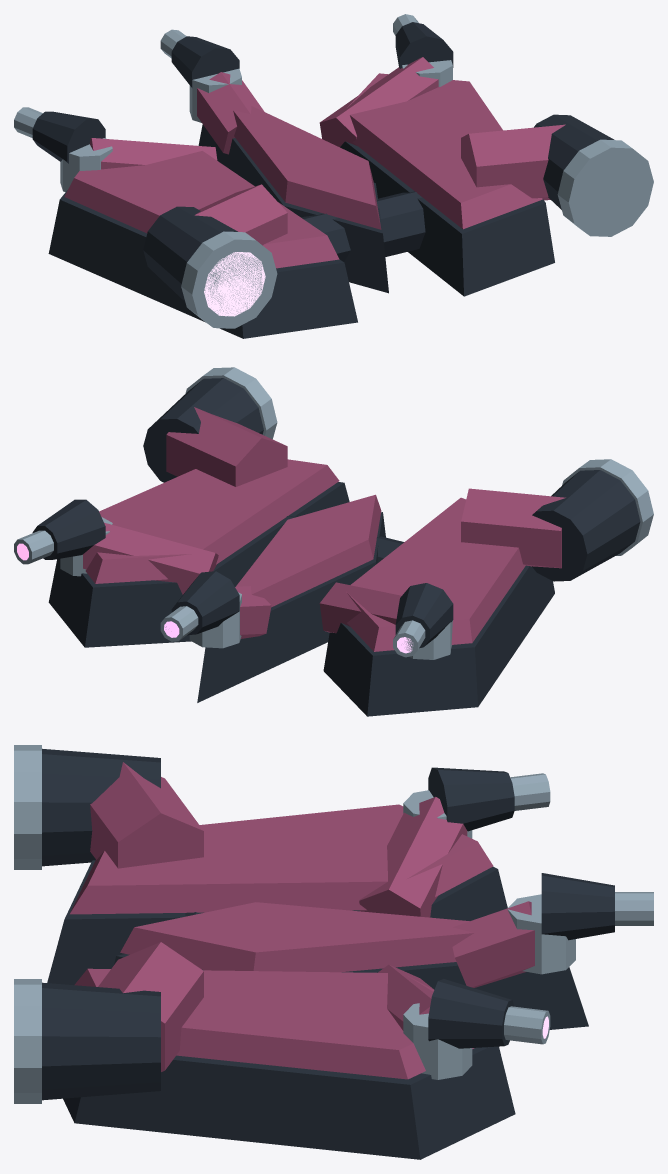
File: c2_compositeEnemy.glb
3 renders of one model, top to bottom at view 1: azimuth 30°, elevation 25°; view 2: azimuth 150°, elevation 25°; view 3: azimuth 270°, elevation 25°, orthographic. The views are drawn at different scales.
Visible parts, largest first — view 1: compositeEnemy / Armor, compositeEnemy / Chassis, compositeEnemy / Titanium, compositeEnemy / Energy; view 2: compositeEnemy / Armor, compositeEnemy / Chassis, compositeEnemy / Titanium, compositeEnemy / Energy; view 3: compositeEnemy / Armor, compositeEnemy / Chassis, compositeEnemy / Titanium.
Part boxes in pixels (left/top/right/bottom): compositeEnemy / Armor: left=64, top=57, right=565, bottom=268; compositeEnemy / Chassis: left=32, top=22, right=614, bottom=338; compositeEnemy / Titanium: left=14, top=14, right=653, bottom=328; compositeEnemy / Energy: left=204, top=252, right=265, bottom=316; compositeEnemy / Armor: left=83, top=407, right=565, bottom=651; compositeEnemy / Chassis: left=32, top=378, right=640, bottom=716; compositeEnemy / Titanium: left=14, top=367, right=653, bottom=659; compositeEnemy / Energy: left=17, top=543, right=412, bottom=653; compositeEnemy / Armor: left=70, top=762, right=534, bottom=1079; compositeEnemy / Chassis: left=42, top=748, right=614, bottom=1159; compositeEnemy / Titanium: left=14, top=745, right=653, bottom=1103.
Size of the model in its own units: 1.57 by 0.405 by 1.48.
